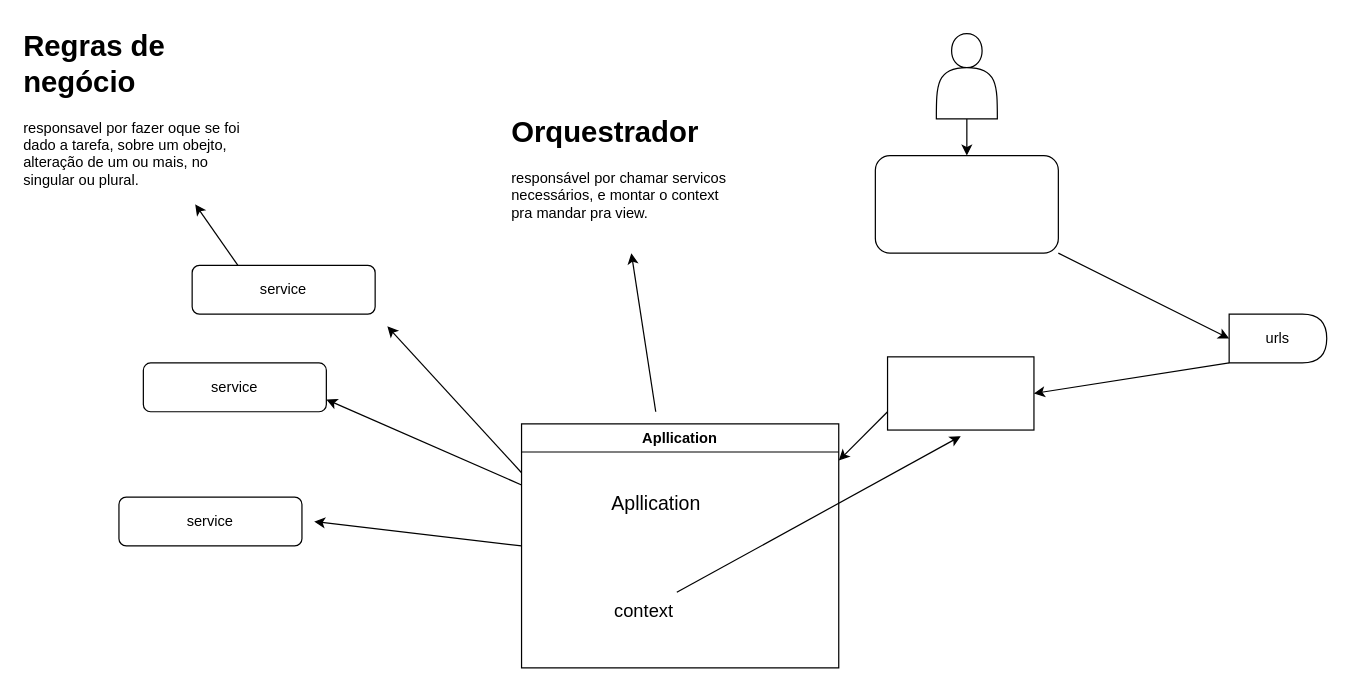
Some shapes in this 1348 by 689 pixel diagram are drawn without their labels. Each missing label, with the centre of its shape:
Template: point 966,203
views: point 960,393
